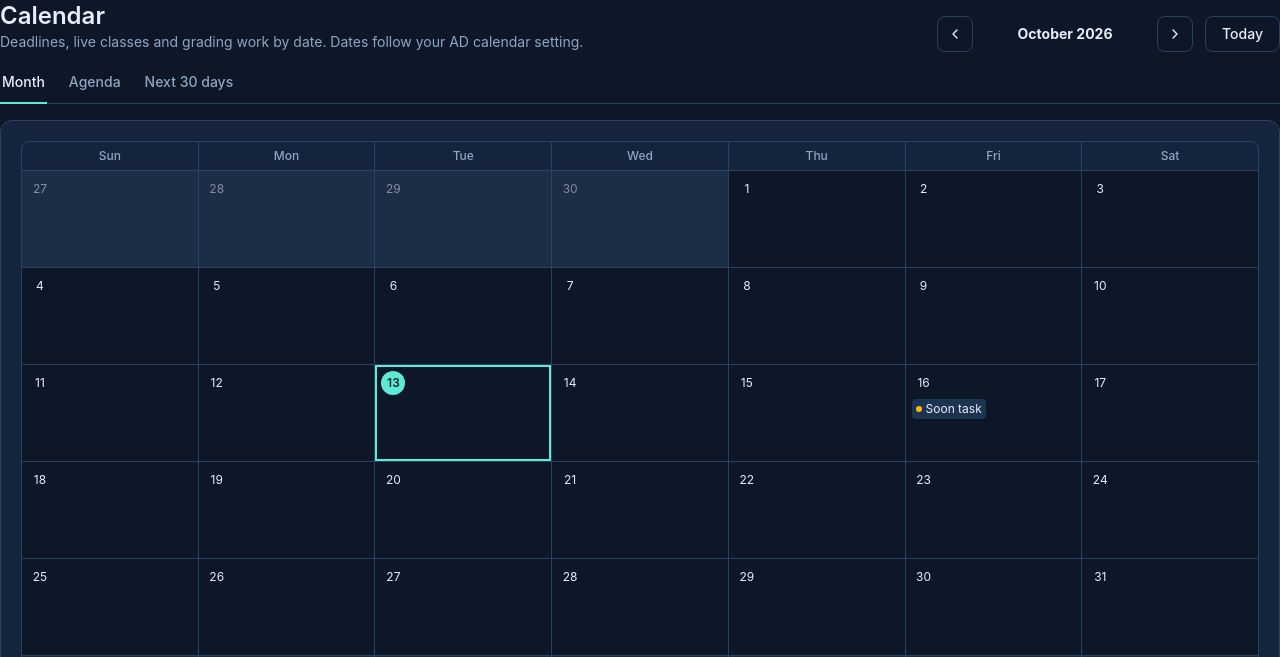
Scenario: CalendarPage › "Next 30 days" lists what is coming up from today, whatever month is on screen
Click the button named "Next month": (1175,34) [1157,16,1193,52]
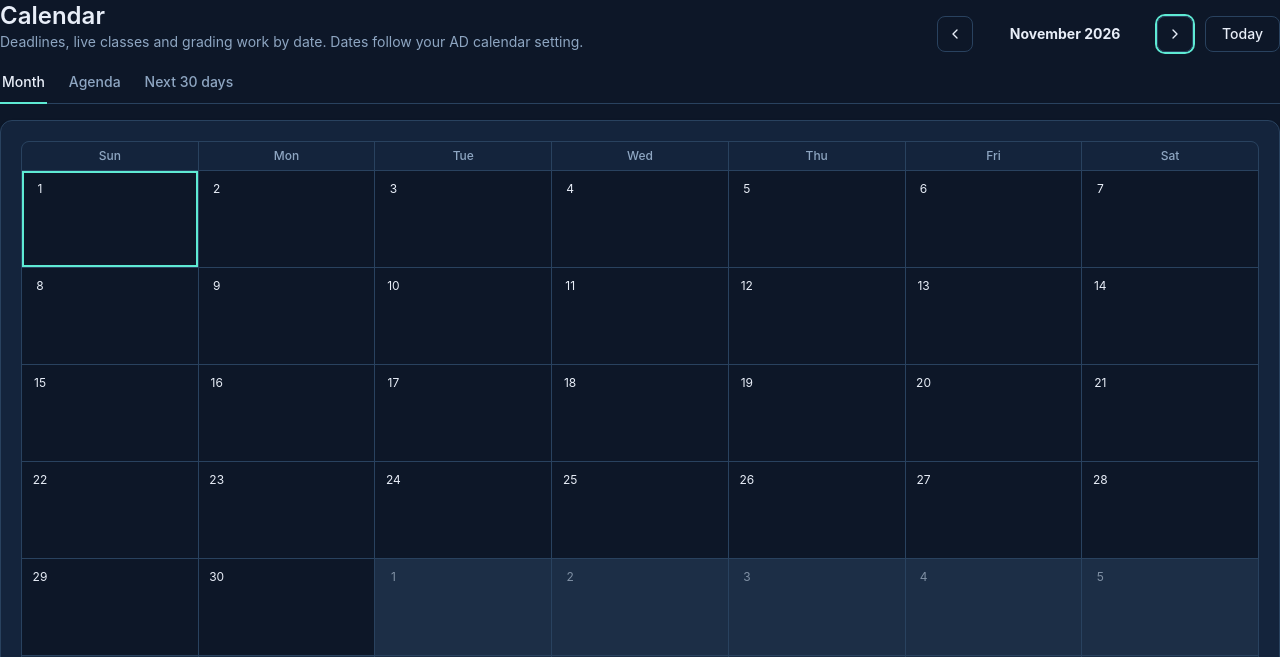
Click the tab "Next 30 days": (189,86) [143,68,235,104]
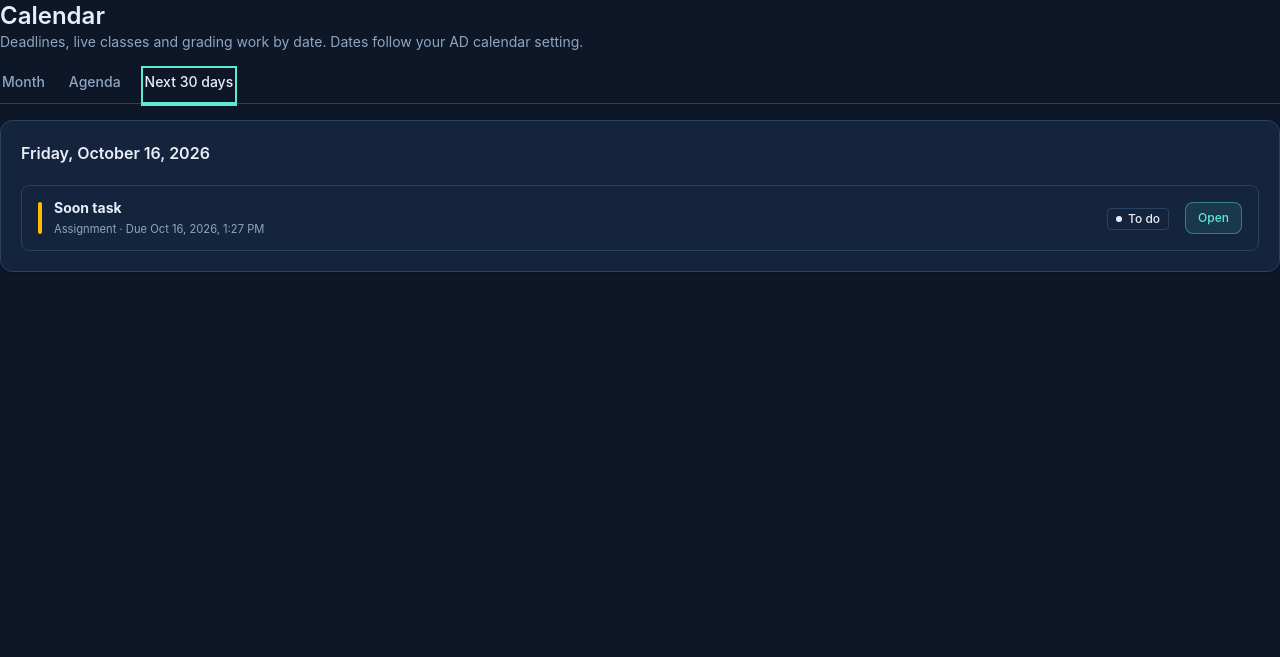
Expected: the text "Soon task" is shown, [54,199,122,216]
